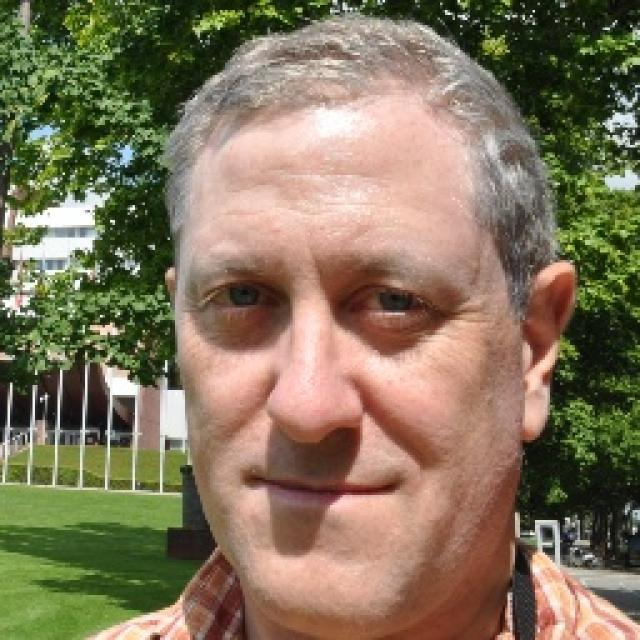earlobe: (518, 261, 576, 444)
